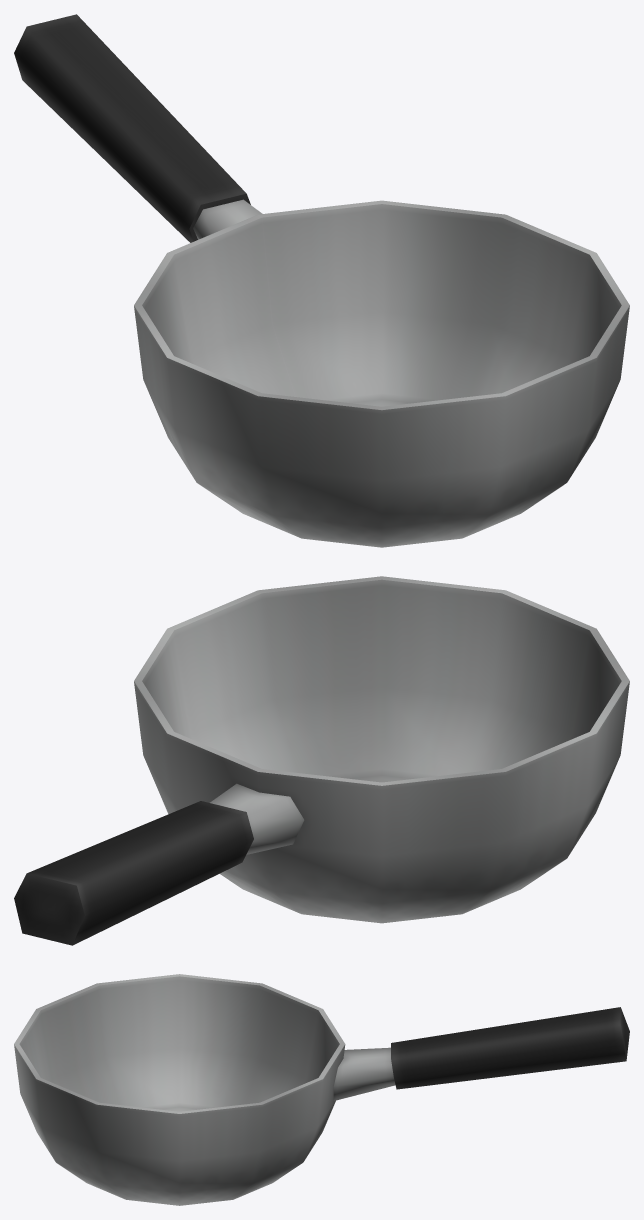
The model's file is jsf_Pot_04a.fbx.
3 renders of one model, top to bottom at view 1: azimuth 30°, elevation 25°; view 2: azimuth 150°, elevation 25°; view 3: azimuth 270°, elevation 25°, orthographic. The views are drawn at different scales.
Visible parts, largest first — view 1: jsf_Pot_04a; view 2: jsf_Pot_04a; view 3: jsf_Pot_04a.
Part boxes in pixels (box(x1,y1,x2,y2)): jsf_Pot_04a: box(14, 14, 629, 547); jsf_Pot_04a: box(14, 576, 629, 945); jsf_Pot_04a: box(14, 974, 629, 1205).
Size of the model in its own units: 19.1 by 9.25 by 35.5.
